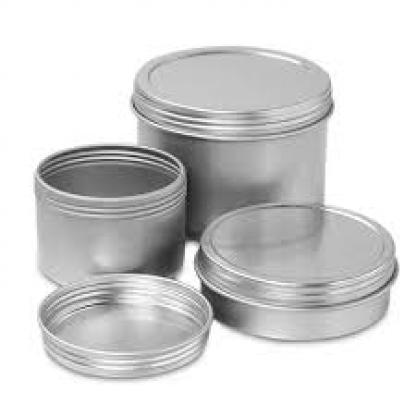Compsot: (129, 44, 333, 240), (194, 202, 398, 342), (33, 138, 185, 288), (35, 270, 213, 375)
